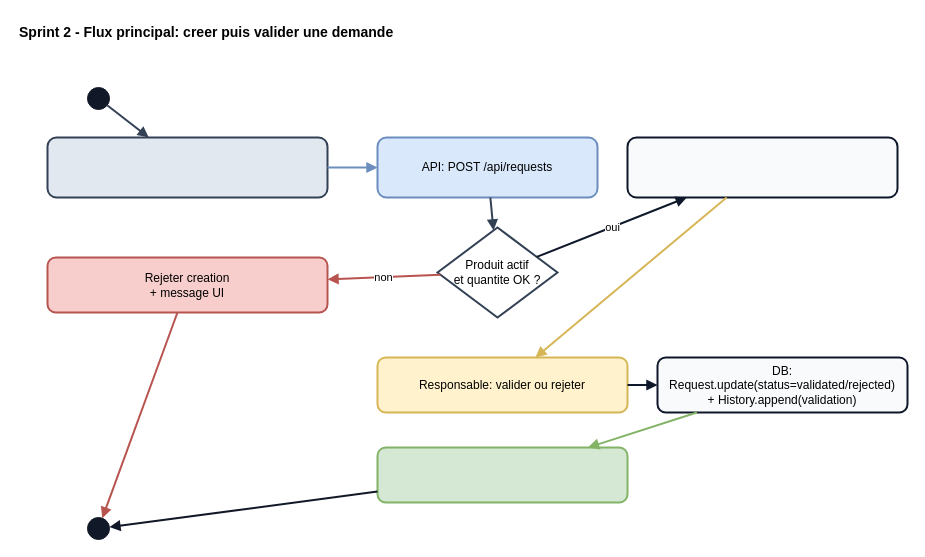
This 925x557 diagram has some shape labels left out. The shapes that lost their labels are listed below. From the top down, each one's centre as x and y in pixels, then its label:
point 187,167: Demandeur: choisir produit (approved) + saisir quantite + infos
point 762,167: DB: Request.create(status=pending) + History.append(request)
point 502,474: Notifier demandeur (in-app / email)
